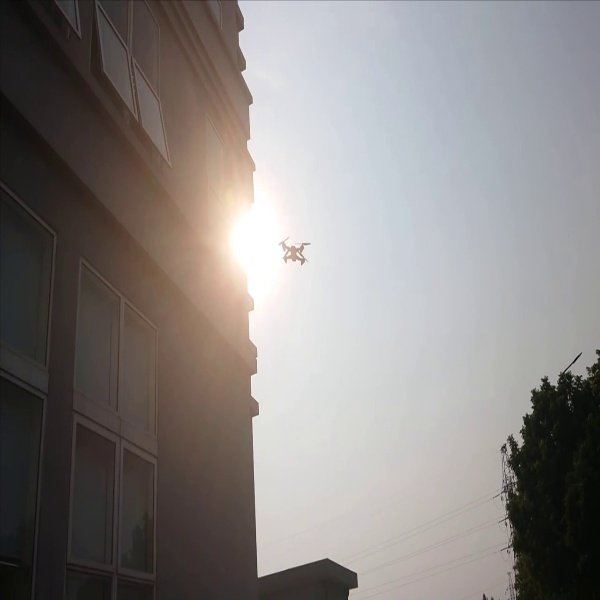drone: (271, 234, 314, 269)
